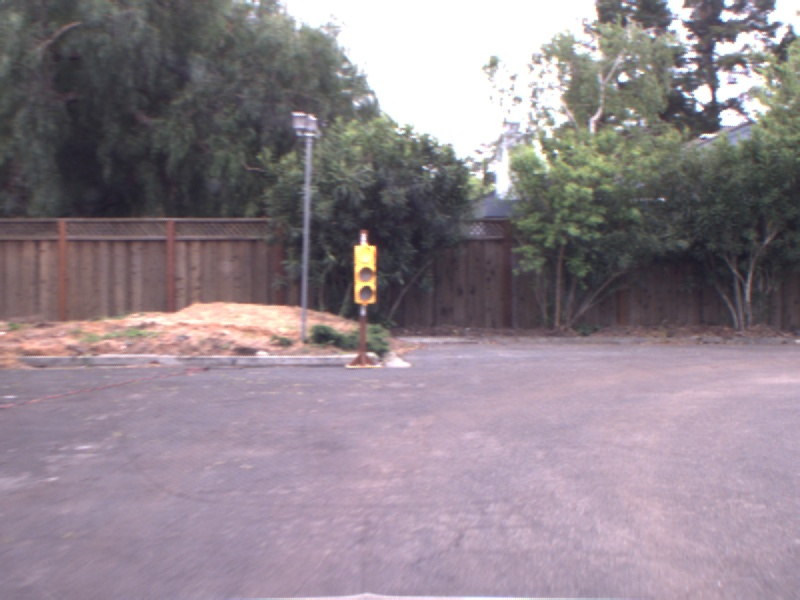red: (351, 239, 379, 310)
